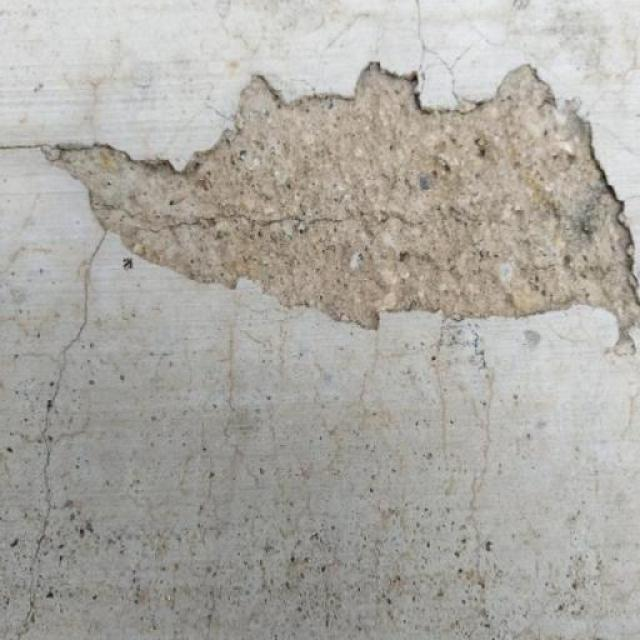D10: (44, 62, 639, 338)
